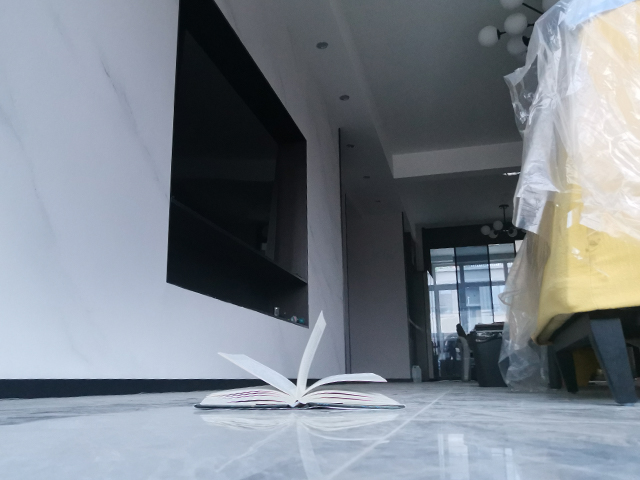book: (190, 309, 409, 415)
sofa: (504, 1, 640, 408)
trashcan: (468, 329, 506, 389)
